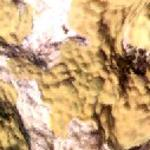alive: (2, 2, 145, 146)
